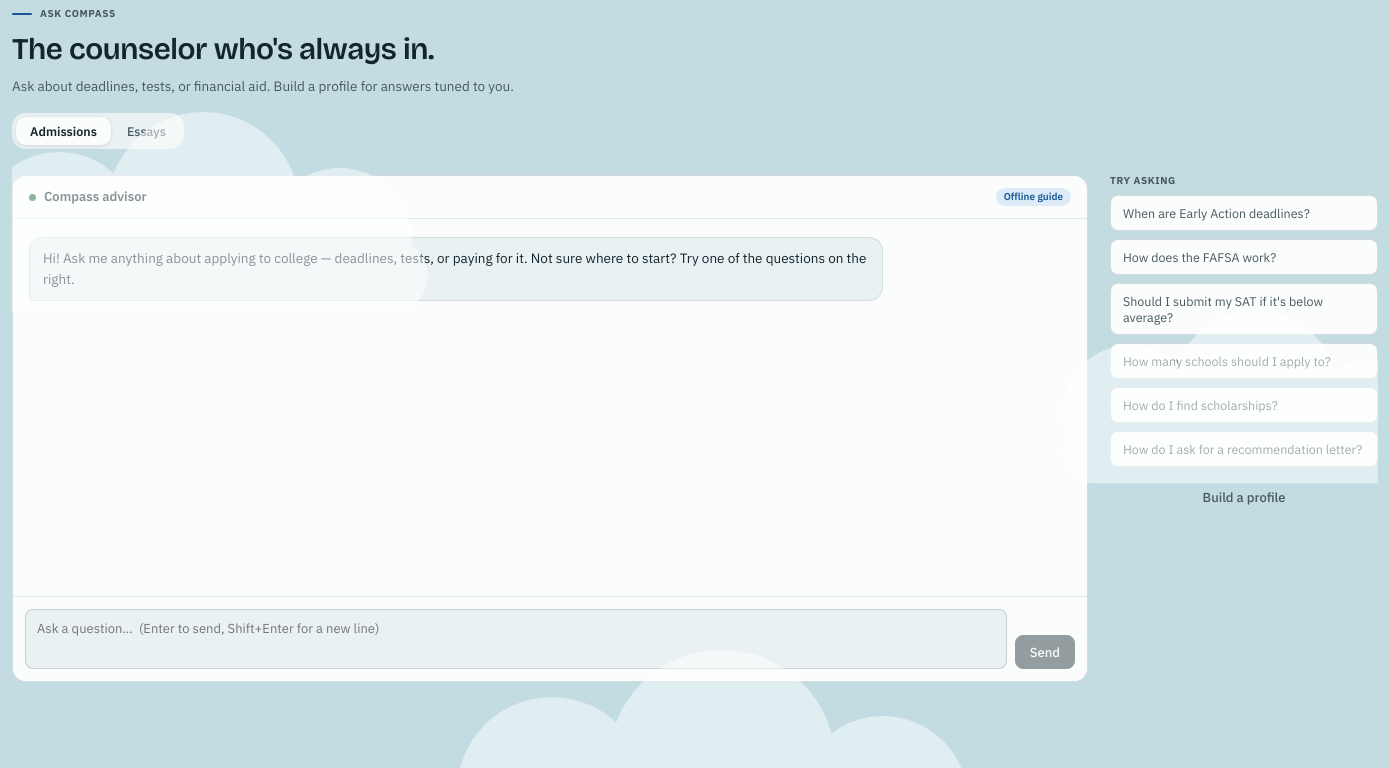
Test case: sending › surfaces a failed request in the thread rather than swallowing it
Click the button "How does the FAFSA work?".
click(1244, 257)  # box [1110,239,1378,275]
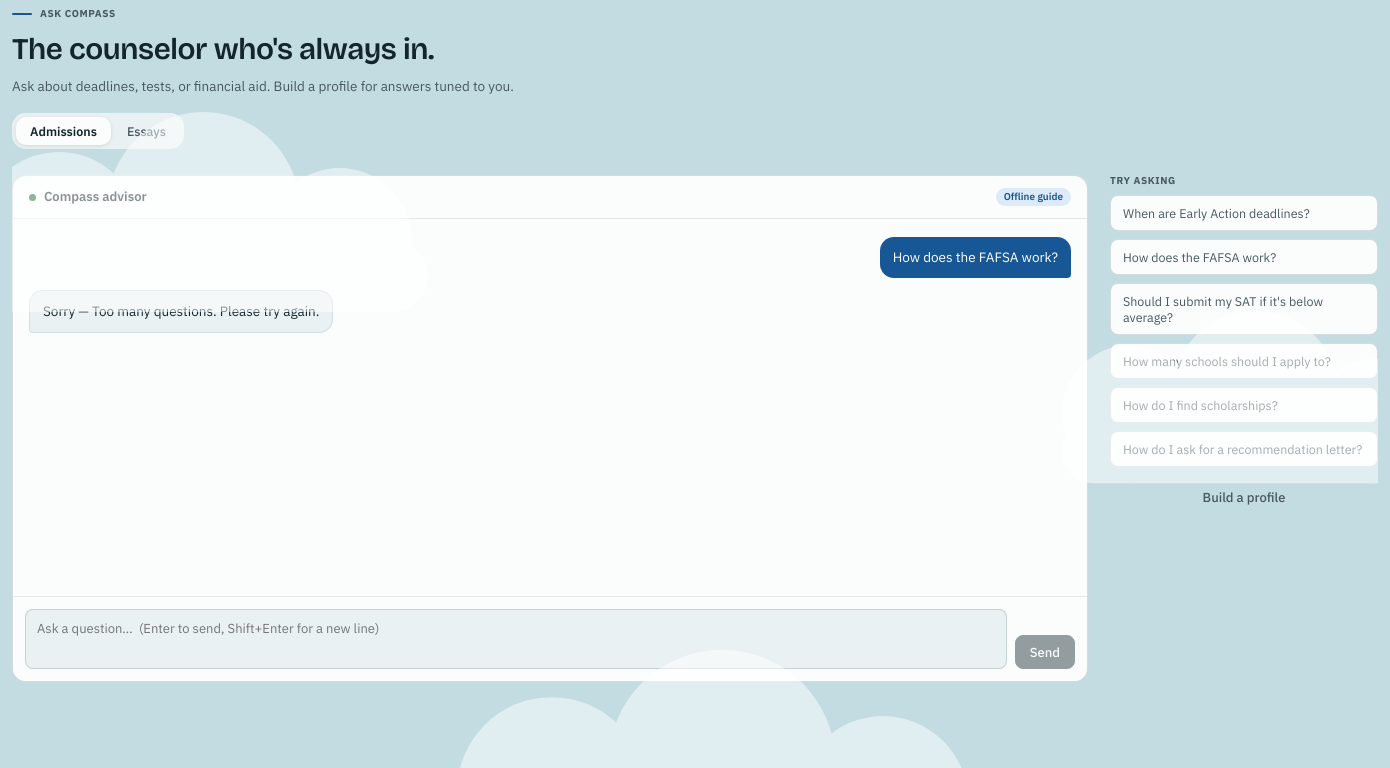
Now the text "Sorry — Too many questions. Please try again." is shown, box [29,290,333,333]
